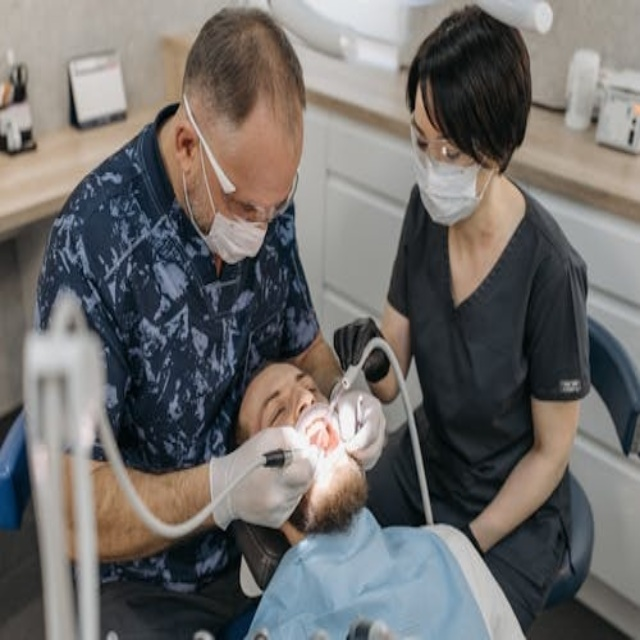Gafas: (180, 93, 300, 226), (409, 114, 483, 168)
Guantes: (209, 425, 317, 532), (333, 388, 387, 470), (333, 317, 390, 381)
Mascara: (404, 146, 494, 238), (191, 195, 282, 284)
Sin_gafas: (248, 353, 326, 433)
Sin_mascara: (304, 417, 336, 452)
